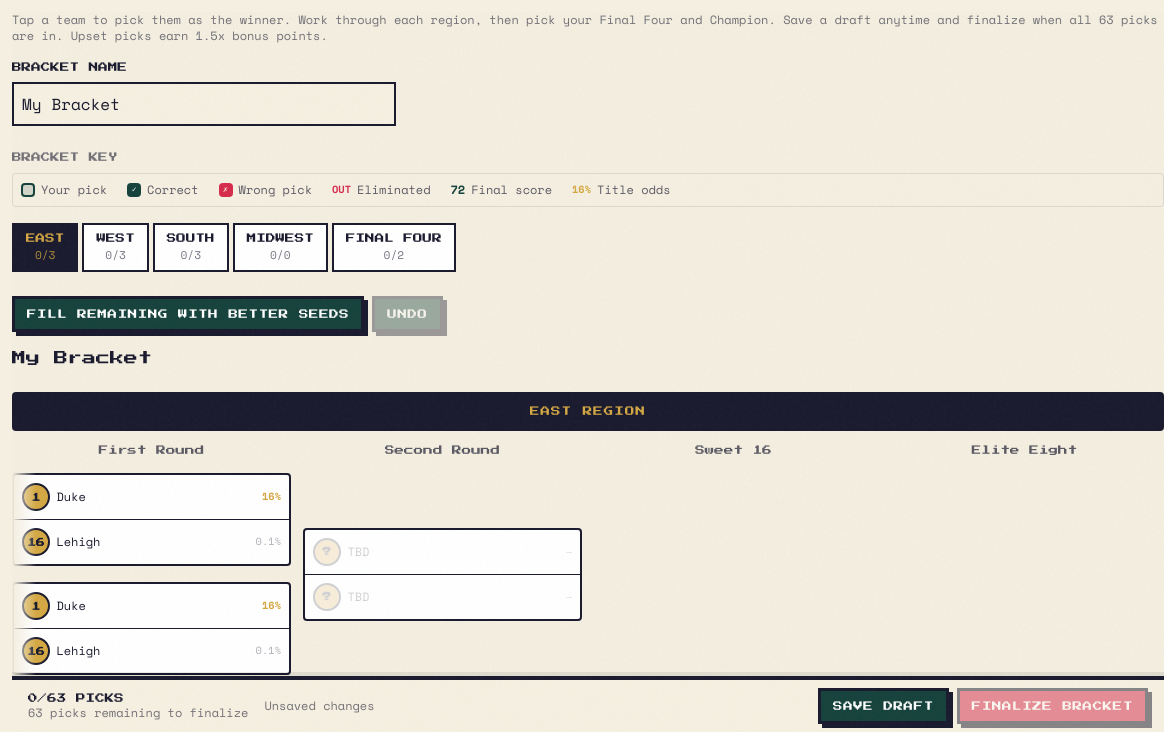
BracketBuilder › shows error message on failed save
Click the button "Save Draft". click: (884, 706)
box: 818,688 -> 949,724
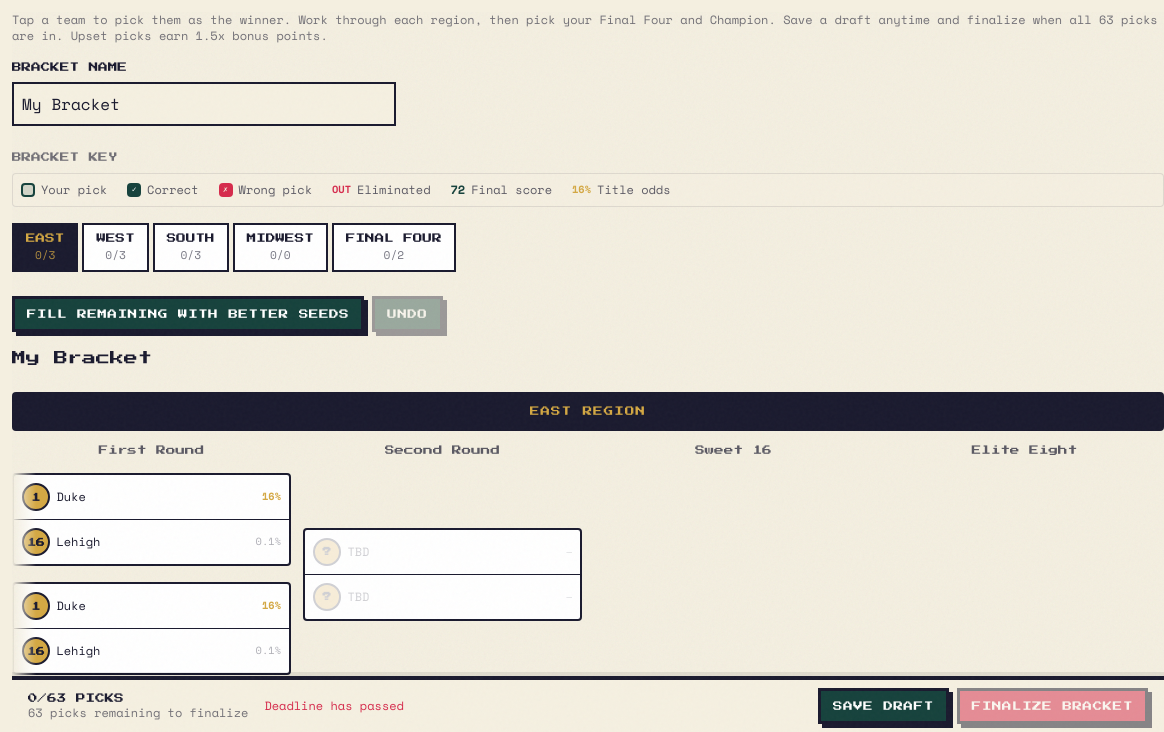
Expected: the text "Deadline has passed" is shown, 264,697 -> 404,714
